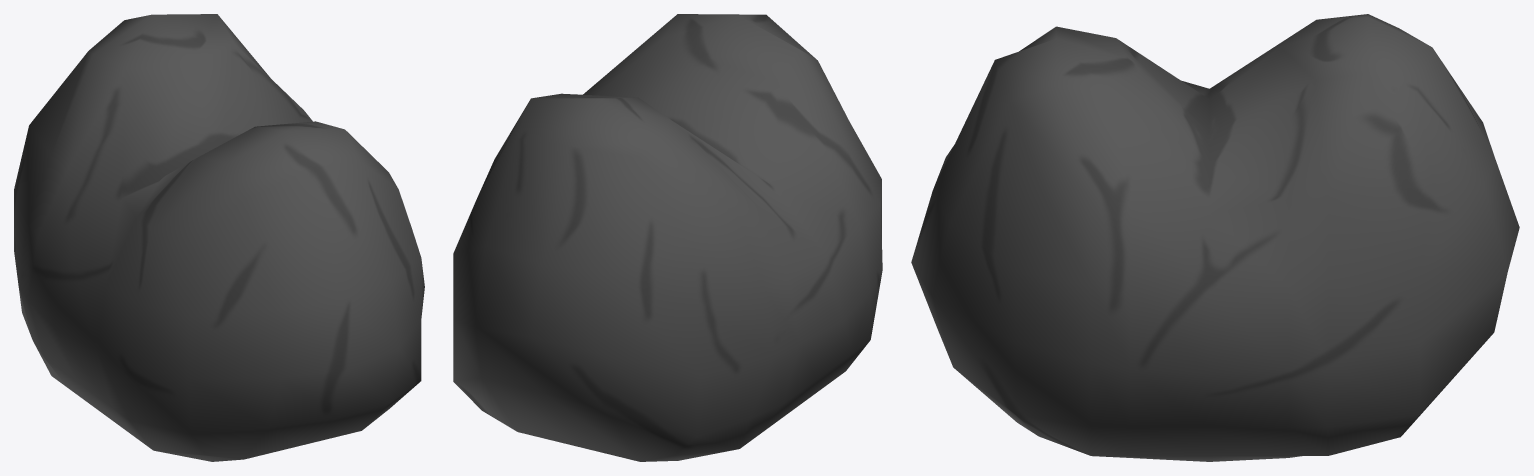
File: Rock_03.fbx
3 views of the same model, side by side, from view 1: azimuth 30°, elevation 25°; view 2: azimuth 150°, elevation 25°; view 3: azimuth 270°, elevation 25° (orthographic). The views are drawn at different scales.
Visible parts, largest first — view 1: Cube; view 2: Cube; view 3: Cube.
Part boxes in pixels (x1,y1,x2,y2): Cube: (14,14,424,461); Cube: (453,14,882,461); Cube: (911,14,1519,461).
Size of the model in its own units: 288 by 297 by 385.
1 material, 1 textured.
